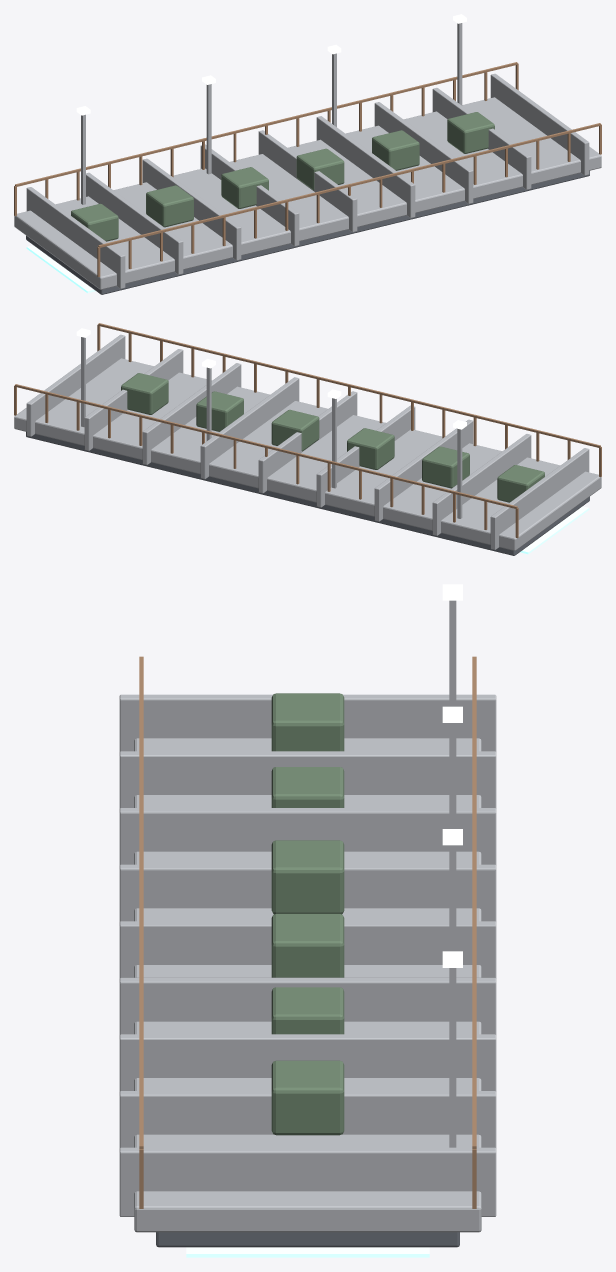
The model's file is bridgew_8.glb.
3 renders of one model, top to bottom at view 1: azimuth 30°, elevation 25°; view 2: azimuth 150°, elevation 25°; view 3: azimuth 270°, elevation 25°, orthographic. The views are drawn at different scales.
Parts seen in each view (by area): view 1: ext_bridge_floor, ext_bridge_ribs, ext_bridge_plants, ext_bridge_rail, ext_bridge_under, ext_bridge_glow, ext_lamp1, ext_lamp3, ext_lamp0; view 2: ext_bridge_floor, ext_bridge_ribs, ext_bridge_plants, ext_bridge_rail, ext_bridge_under, ext_bridge_glow, ext_lamp0, ext_lamp1, ext_lamp3, ext_lamp2; view 3: ext_bridge_ribs, ext_bridge_floor, ext_bridge_plants, ext_bridge_rail, ext_bridge_under, ext_bridge_glow, ext_lamp3.
Part boxes in pixels (x1=…): ext_bridge_floor: x1=14, y1=97, x2=601, y2=289; ext_bridge_ribs: x1=26, y1=73, x2=589, y2=288; ext_bridge_plants: x1=71, y1=112, x2=494, y2=241; ext_bridge_rail: x1=14, y1=62, x2=601, y2=276; ext_bridge_under: x1=26, y1=171, x2=589, y2=294; ext_bridge_glow: x1=26, y1=245, x2=95, y2=293; ext_lamp1: x1=206, y1=84, x2=211, y2=174; ext_lamp3: x1=457, y1=23, x2=462, y2=105; ext_lamp0: x1=81, y1=114, x2=85, y2=204; ext_bridge_floor: x1=14, y1=358, x2=601, y2=550; ext_bridge_ribs: x1=26, y1=334, x2=589, y2=549; ext_bridge_plants: x1=121, y1=373, x2=544, y2=502; ext_bridge_rail: x1=14, y1=323, x2=601, y2=538; ext_bridge_under: x1=26, y1=432, x2=589, y2=555; ext_bridge_glow: x1=520, y1=506, x2=589, y2=554; ext_lamp0: x1=457, y1=428, x2=462, y2=518; ext_lamp1: x1=332, y1=398, x2=336, y2=488; ext_lamp3: x1=81, y1=337, x2=85, y2=426; ext_lamp2: x1=206, y1=367, x2=211, y2=440; ext_bridge_ribs: x1=119, y1=694, x2=496, y2=1216; ext_bridge_floor: x1=134, y1=738, x2=481, y2=1232; ext_bridge_plants: x1=271, y1=693, x2=344, y2=1135; ext_bridge_rail: x1=139, y1=656, x2=476, y2=1208; ext_bridge_under: x1=156, y1=1232, x2=459, y2=1247; ext_bridge_glow: x1=186, y1=1247, x2=429, y2=1257; ext_lamp3: x1=449, y1=968, x2=456, y2=1147.
Bounding box in the file's own units: 8.03 × 1.83 × 2.6.
